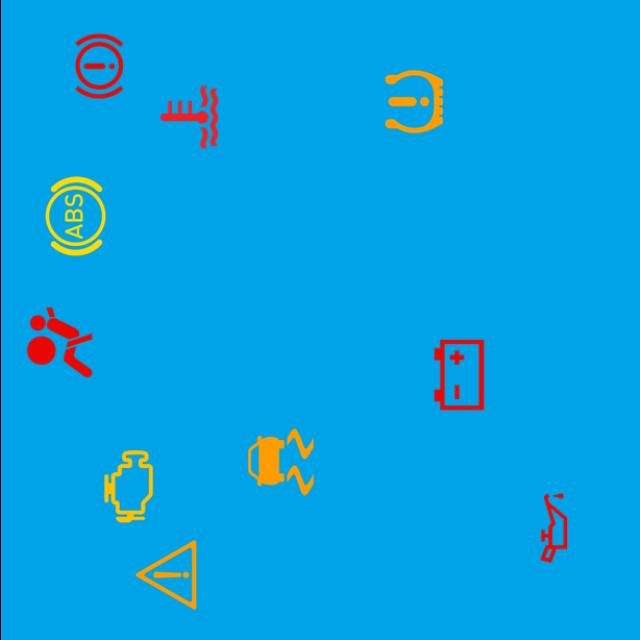Anti Lock Braking System: (32, 173, 118, 260)
Braking System Issue: (56, 23, 142, 109)
Charging System Issue: (415, 332, 501, 418)
Check Engine: (84, 443, 170, 530)
Electronic Stability Problem -ESP-: (237, 420, 323, 506)
Engine Overheating Warning Light: (145, 74, 231, 160)
Low Engine Oil Warning Light: (510, 484, 596, 572)
Low Tire Pressure Warning Light: (371, 59, 456, 144)
Master warning light: (122, 532, 208, 618)
SRS-Airbag: (16, 300, 102, 386)
